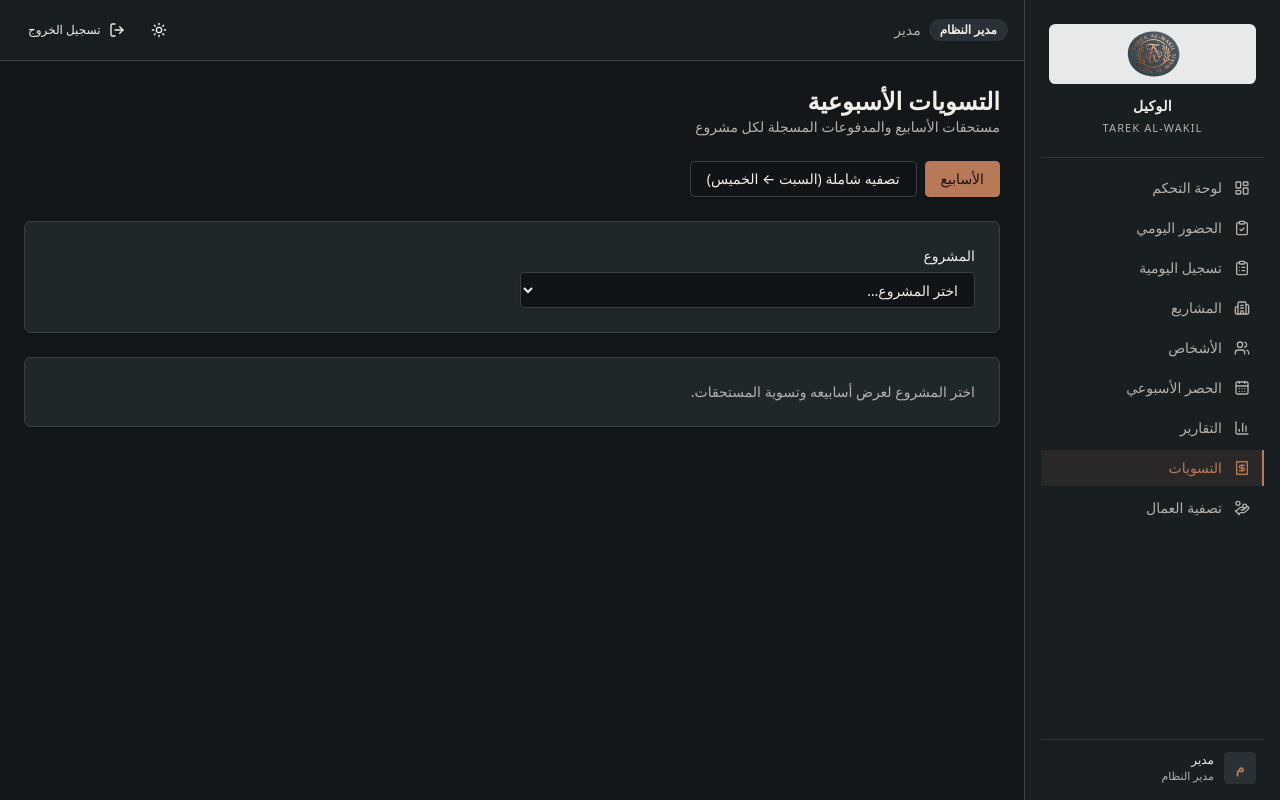
SettlementsPage › can clear and re-select all projects in the summary tab
The width and height of the screenshot is (1280, 800).
Click the button "تصفيه شاملة (السبت ← الخميس)".
click(803, 179)  # box [690,161,917,197]
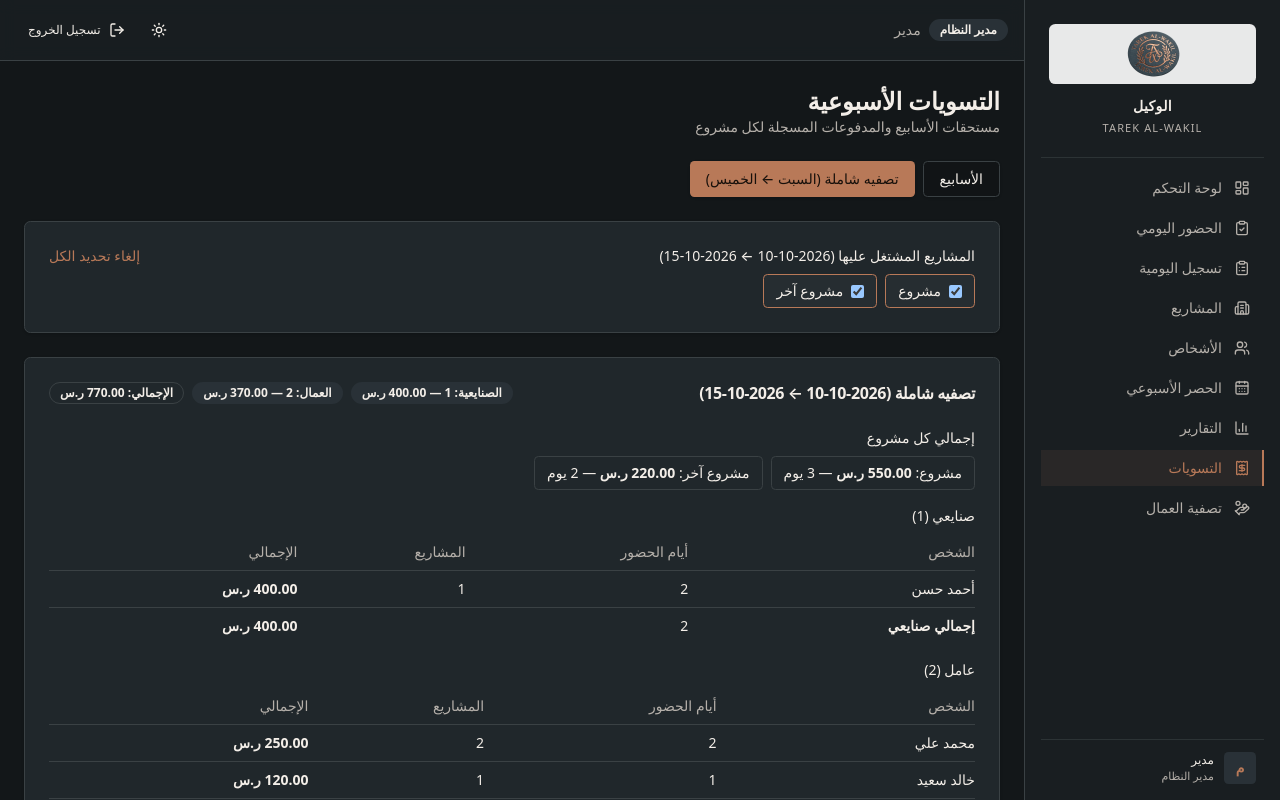
Expected: the text "الإجمالي: 770.00 ر.س" is shown, [49,382,184,404]
Click the button "إلغاء تحديد الكل".
click(95, 256)  # box [49,246,140,266]
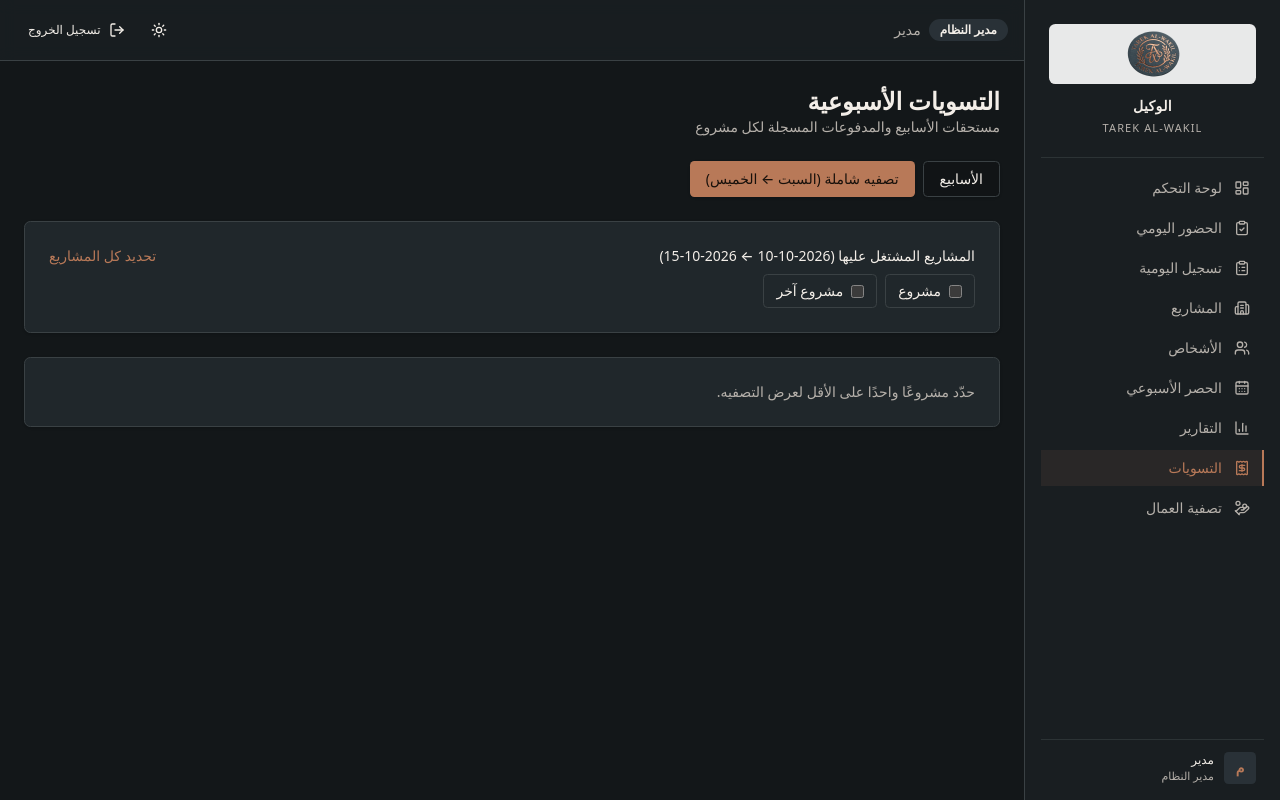
Expected: the text "حدّد مشروعًا واحدًا على الأقل لعرض التصفيه." is shown, [717,382,975,401]
Click the button "تحديد كل المشاريع".
click(103, 256)  # box [49,246,156,266]
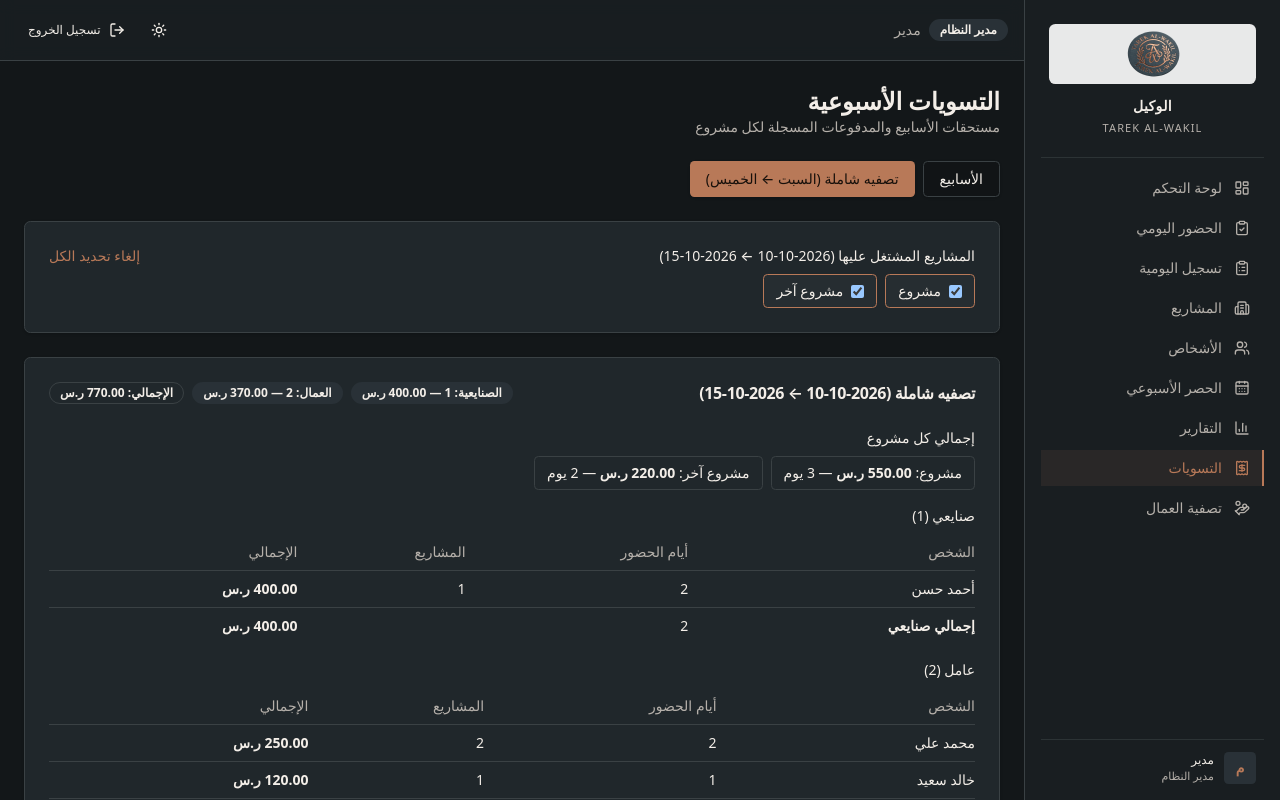
Expected: the text "الإجمالي: 770.00 ر.س" is shown, [49,382,184,404]
